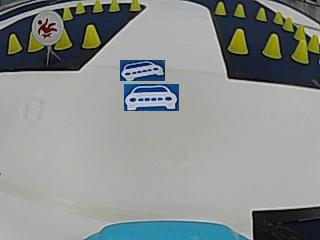cone: (228, 27, 249, 55), (262, 32, 282, 59), (81, 23, 100, 49), (291, 39, 308, 64), (55, 31, 72, 50), (7, 32, 20, 54), (27, 33, 42, 52), (308, 33, 318, 53), (214, 1, 226, 16), (256, 6, 267, 22), (282, 15, 293, 31), (234, 3, 245, 18), (273, 10, 284, 24), (62, 7, 73, 20), (75, 1, 85, 15), (109, 0, 120, 12), (92, 0, 102, 13), (130, 0, 140, 11)
tumble: (34, 13, 62, 41)
